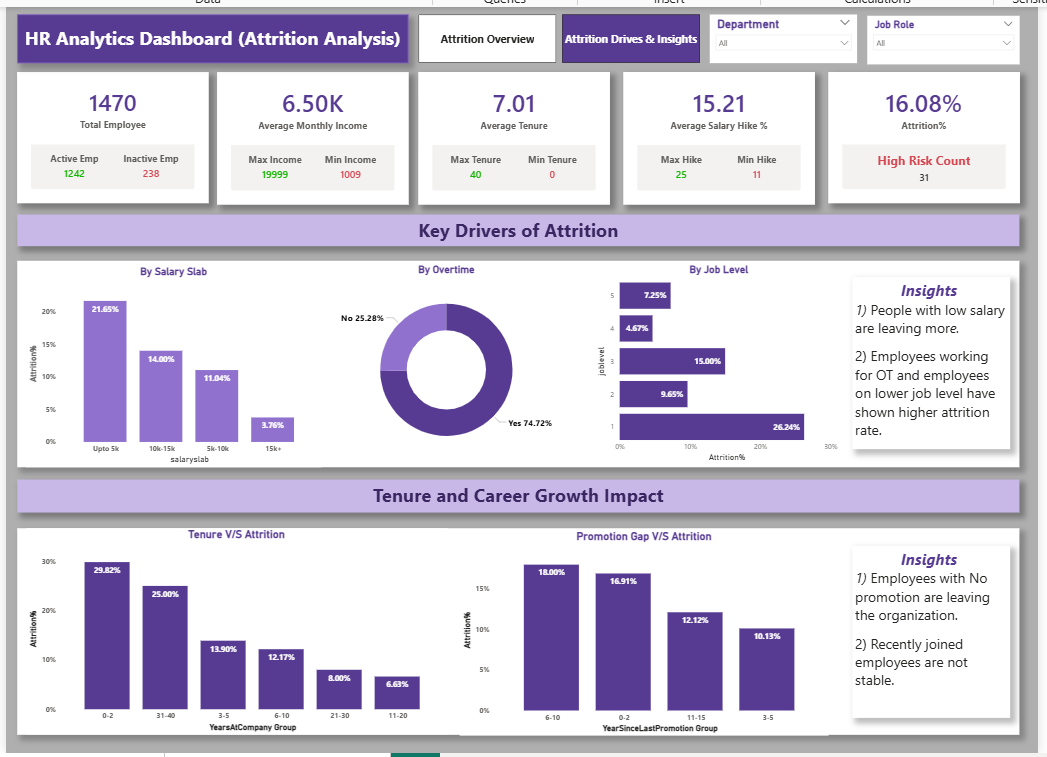

What the dashboard file says about the page in this screenshot:
{"tool":"powerbi","page":{"name":"Attrition Drives & Insights","canvas":[1800,1300],"ordinal":1},"visuals":[{"type":"shape","box":[19.9,441.6,1746.4,359.9],"z":0},{"type":"cardVisual","fields":{"Data":["Count(public employee.employeeid)"]},"box":[19.6,113.3,333.3,228.7],"z":1000},{"type":"cardVisual","fields":{"Data":["Avg(public employee.monthlyincome)"]},"box":[368.1,113.3,333.3,230.9],"z":2000},{"type":"cardVisual","fields":{"Data":["DAX_Measure.Attrition%"]},"box":[1433.3,113.3,333.3,228.7],"z":3000},{"type":"cardVisual","fields":{"Data":["Avg(public employee.percentsalaryhike)"]},"box":[1076.1,113.3,333.3,230.9],"z":4000},{"type":"cardVisual","fields":{"Data":["Avg(public employee.yearsatcompany)"]},"box":[718.8,113.3,333.3,230.9],"z":5000},{"type":"textbox","box":[19.9,362.1,1746.4,55.2],"z":6000},{"type":"textbox","box":[19.9,823.5,1746.4,57.4],"z":7000},{"type":"columnChart","title":"By Salary Slab","fields":{"Y":["DAX_Measure.Attrition%"],"Category":["public employee.salaryslab"]},"box":[35.3,450.4,514.4,351.1],"z":8000},{"type":"donutChart","title":"By Overtime","fields":{"Category":["public employee.overtime"],"Y":["DAX_Measure.Attrition%"]},"box":[549.8,446,437.2,351.1],"z":9000},{"type":"barChart","title":"By Job Level","fields":{"Y":["DAX_Measure.Attrition%"],"Category":["public employee.joblevel"]},"box":[1024.5,446,437.2,351.1],"z":10000},{"type":"shape","box":[19.9,907.4,1746.4,359.9],"z":11000},{"type":"columnChart","title":"Tenure V/S Attrition","fields":{"Category":["public employee.YearsAtCompany Group"],"Y":["DAX_Measure.Attrition%"]},"box":[34.9,908.3,734.1,359.4],"z":12000},{"type":"columnChart","title":"Promotion Gap V/S Attrition","fields":{"Category":["public employee.YearSinceLastPromotion Group"],"Y":["DAX_Measure.Attrition%"]},"box":[790.7,910.5,642.6,359.4],"z":13000},{"type":"textbox","box":[19.6,13.1,681.8,85],"z":14000},{"type":"pageNavigator","box":[718.8,13.1,490.1,85],"z":15000},{"type":"slicer","fields":{"Values":["public employee.department"]},"box":[1226.4,13.1,257,85],"z":16000},{"type":"slicer","fields":{"Values":["public employee.jobrole"]},"box":[1500.8,15.2,265.8,85],"z":17000},{"type":"textbox","box":[1475,470,275,300],"z":18000},{"type":"textbox","box":[1475,938,275,300],"z":19000}]}

Visuals, with their boxes on the page's 1800x1300 design canvas (x1, y1, x2, y2). These are canvas units, not pixel positions in the 1047x757 screenshot, which may show the page scaled, cropped or inside an application window:
shape: region(20, 442, 1766, 802)
cardVisual - Count(public employee.employeeid): region(20, 113, 353, 342)
cardVisual - Avg(public employee.monthlyincome): region(368, 113, 701, 344)
cardVisual - DAX_Measure.Attrition%: region(1433, 113, 1767, 342)
cardVisual - Avg(public employee.percentsalaryhike): region(1076, 113, 1409, 344)
cardVisual - Avg(public employee.yearsatcompany): region(719, 113, 1052, 344)
textbox: region(20, 362, 1766, 417)
textbox: region(20, 824, 1766, 881)
"By Salary Slab" columnChart: region(35, 450, 550, 802)
"By Overtime" donutChart: region(550, 446, 987, 797)
"By Job Level" barChart: region(1024, 446, 1462, 797)
shape: region(20, 907, 1766, 1267)
"Tenure V/S Attrition" columnChart: region(35, 908, 769, 1268)
"Promotion Gap V/S Attrition" columnChart: region(791, 910, 1433, 1270)
textbox: region(20, 13, 701, 98)
pageNavigator: region(719, 13, 1209, 98)
slicer - public employee.department: region(1226, 13, 1483, 98)
slicer - public employee.jobrole: region(1501, 15, 1767, 100)
textbox: region(1475, 470, 1750, 770)
textbox: region(1475, 938, 1750, 1238)
